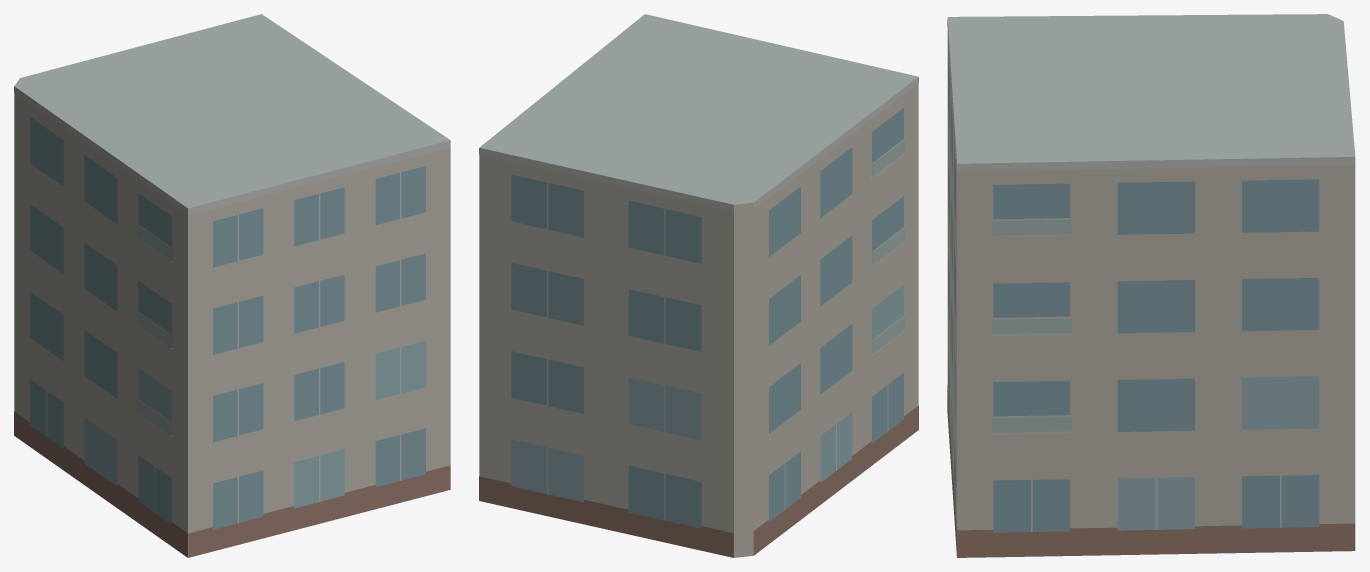
File: survey-upis-32668291.glb
3 views of the same model, side by side, from view 1: azimuth 30°, elevation 25°; view 2: azimuth 150°, elevation 25°; view 3: azimuth 270°, elevation 25° (orthographic). The views are drawn at different scales.
Parts seen in each view (by area): view 1: survey-upis-32668291.tmp; view 2: survey-upis-32668291.tmp; view 3: survey-upis-32668291.tmp.
Boxes of the visible parts, left/top/right/bottom form: survey-upis-32668291.tmp: left=14, top=14, right=450, bottom=557; survey-upis-32668291.tmp: left=479, top=14, right=918, bottom=557; survey-upis-32668291.tmp: left=947, top=14, right=1355, bottom=557.
Bounding box in the file's own units: 9.95 × 12.2 × 11.45.
